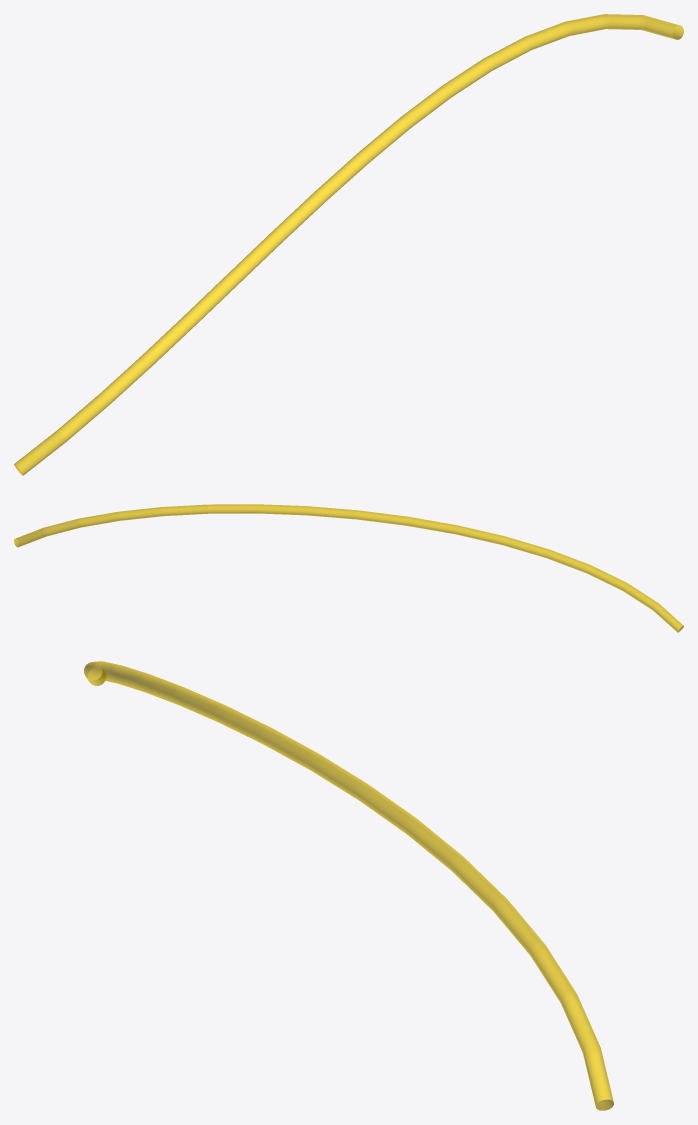
Rendered from Event_17758602_track_121.fbx.
3 renders of one model, top to bottom at view 1: azimuth 30°, elevation 25°; view 2: azimuth 150°, elevation 25°; view 3: azimuth 270°, elevation 25°, orthographic. The views are drawn at different scales.
Parts seen in each view (by area): view 1: Model; view 2: Model; view 3: Model.
Boxes of the visible parts, left/top/right/bottom form: Model: left=14, top=14, right=683, bottom=475; Model: left=14, top=504, right=683, bottom=632; Model: left=84, top=661, right=613, bottom=1110.
Size of the model in its own units: 2.68 by 0.4804 by 1.14.
